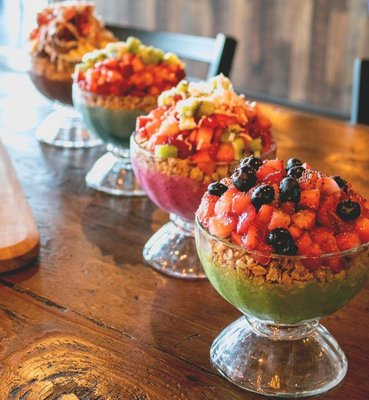pizza: (0, 140, 41, 284)
